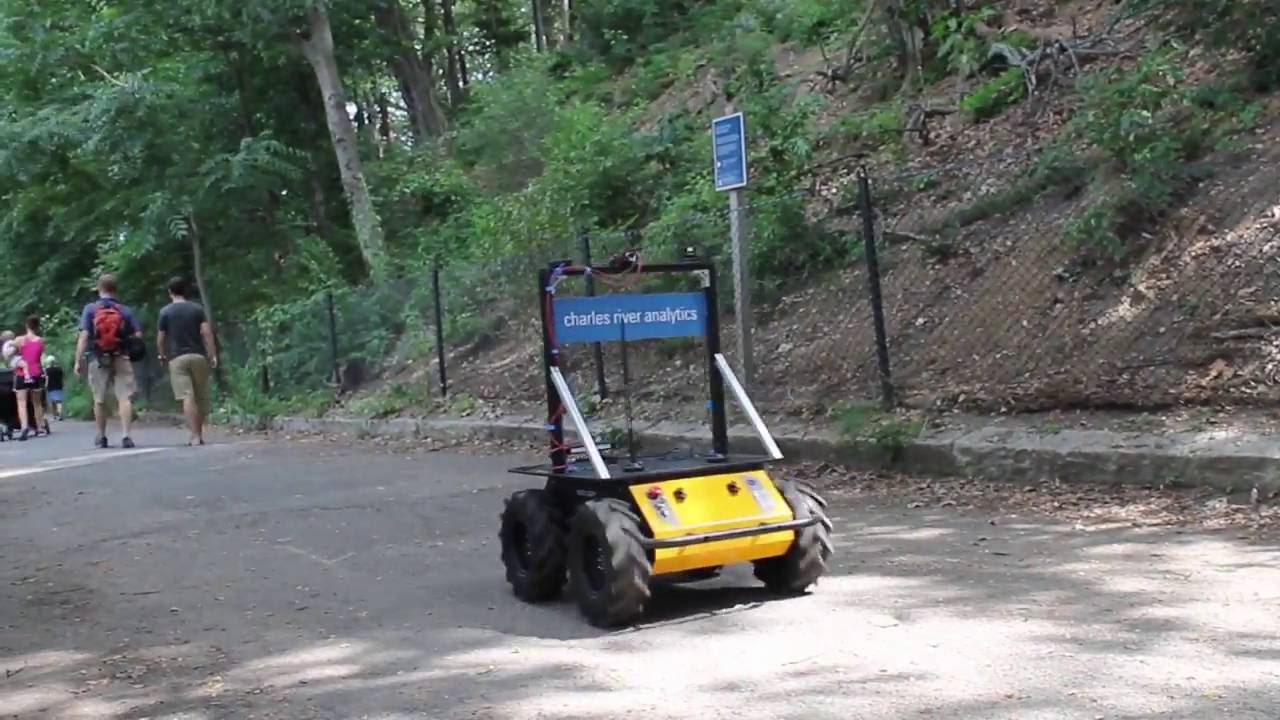husky: (497, 249, 835, 630)
